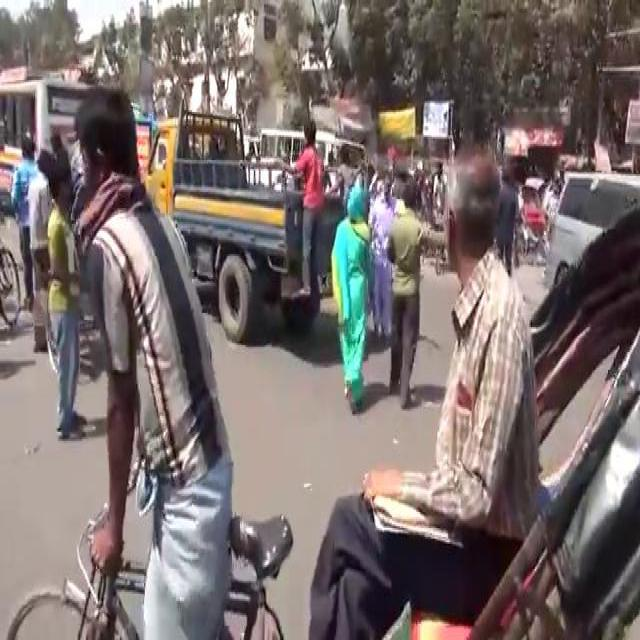bus: (0, 71, 100, 206), (256, 121, 367, 204)
car: (541, 166, 639, 286)
motorcycle: (3, 131, 636, 633)
truck: (144, 98, 347, 341)
